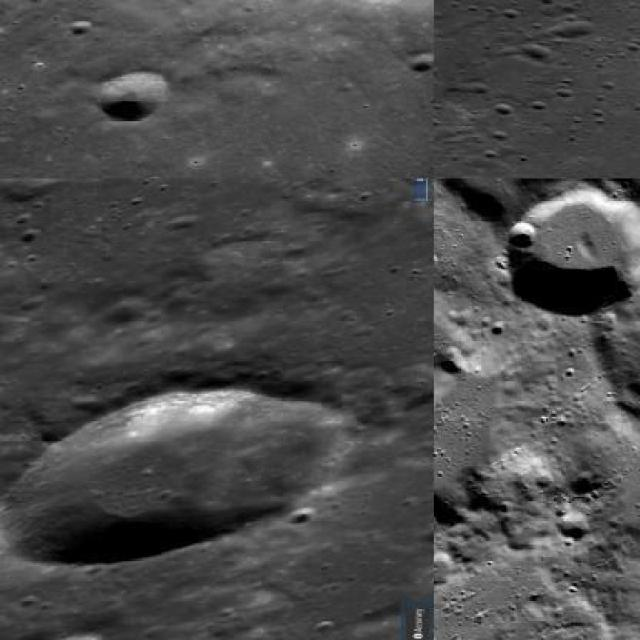crater: (0, 388, 343, 564), (508, 189, 638, 314), (594, 194, 638, 429), (96, 71, 170, 120), (508, 217, 538, 249), (403, 52, 432, 74)
